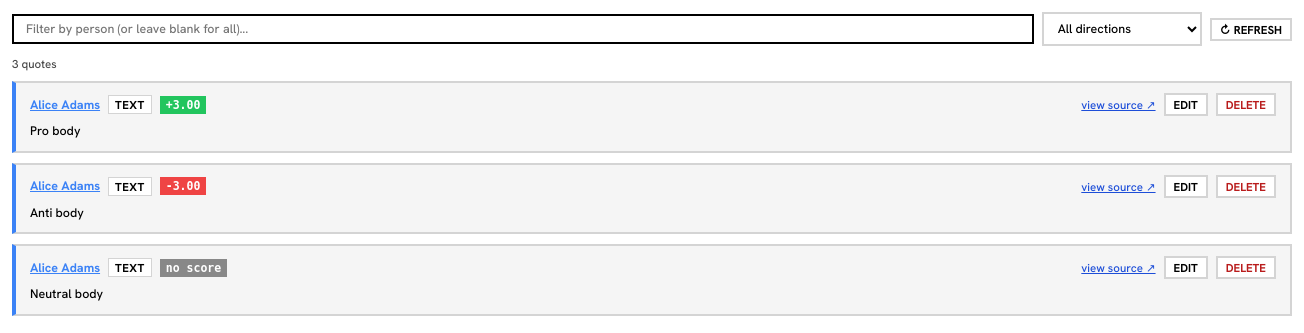
it: QuotesListView — direction filter › "Pro-Ukraine only" hides anti + no-score quotes
Expected: the text "3 quotes" is shown, [12,56,57,71]
Step 1. Select "Pro-Ukraine only" in the dropdown showing "All directions" → (1122, 29), box [1042,12,1202,46]
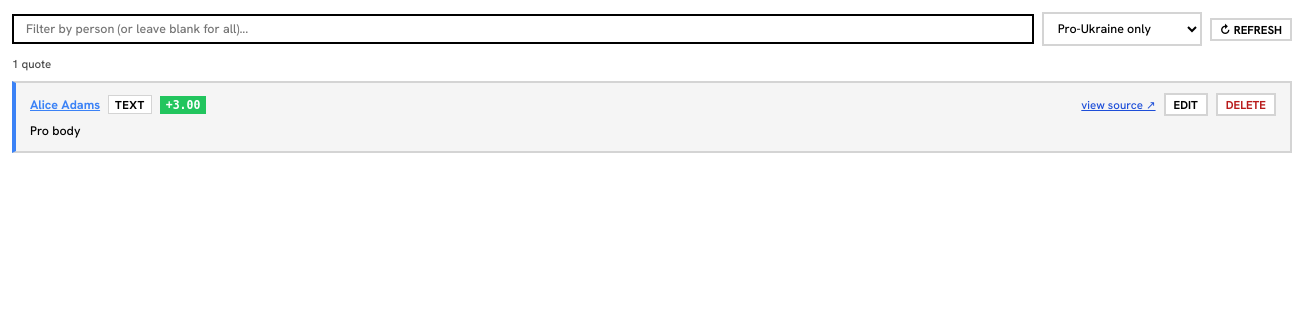
Expected: the text "1 quote" is shown, [12,56,51,71]
Expected: the text "Anti body" is gone
Expected: the text "Neutral body" is gone
